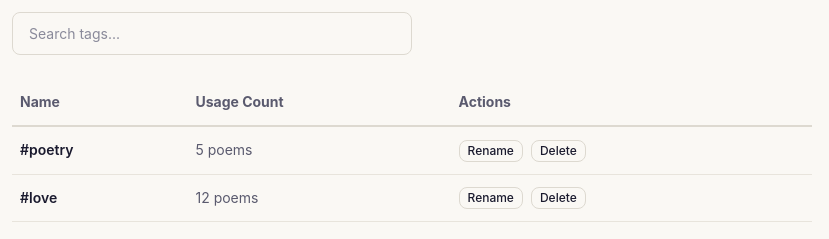
Test: AdminTagsClient Component › filters tags by search term
The image size is (829, 239).
Type "love" into the search field with placeholder "Search tags...". click: (212, 34)
box: [12, 12, 412, 55]
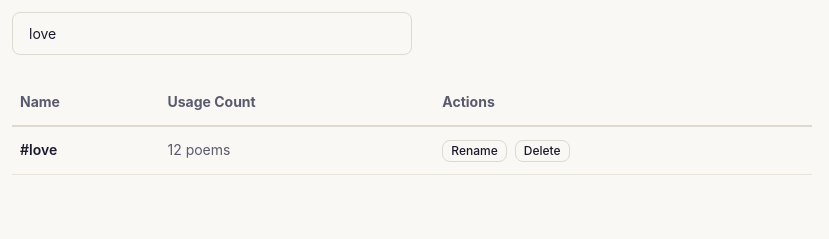
Check: the text "#love" is shown, box [12, 126, 160, 174]
Check: the text "#poetry" is gone
